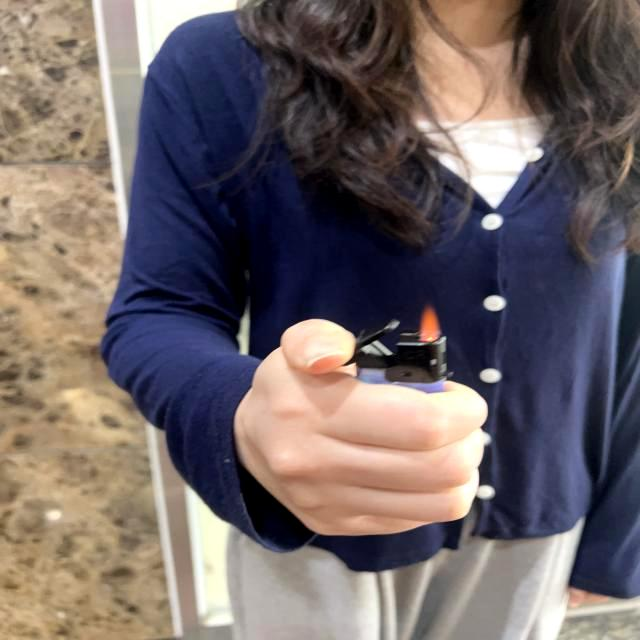fire: (416, 304, 444, 344)
